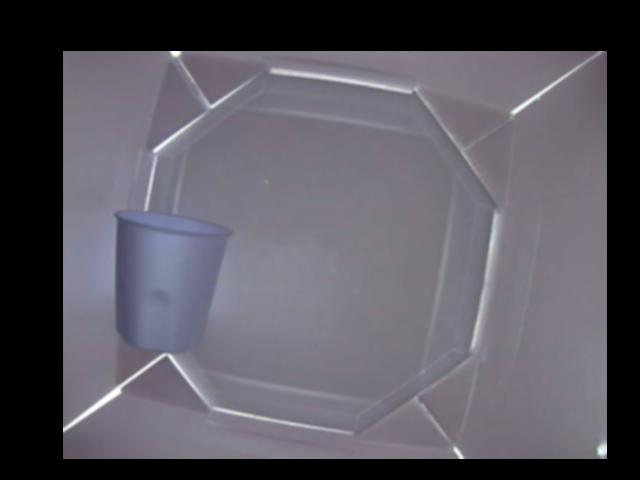Cup: (112, 207, 233, 353)
